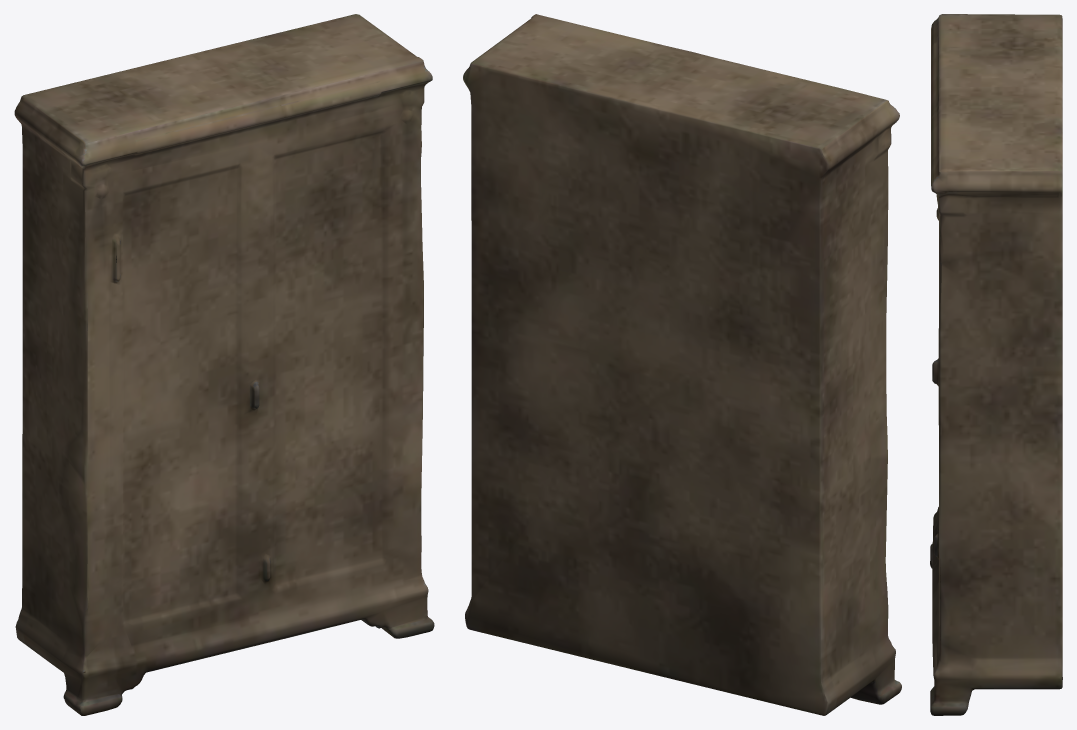
The model's file is old-wood-bookcase-v001.glb.
The picture shows the model from 3 angles, left to right: view 1: azimuth 30°, elevation 25°; view 2: azimuth 150°, elevation 25°; view 3: azimuth 270°, elevation 25°; orthographic projection. The views are drawn at different scales.
Visible parts, largest first — view 1: old-wood-bookcase; view 2: old-wood-bookcase; view 3: old-wood-bookcase.
Boxes of the visible parts, x1,y1,x2,y2 form: old-wood-bookcase: (14, 14, 434, 715); old-wood-bookcase: (463, 14, 901, 715); old-wood-bookcase: (930, 14, 1062, 715).
Bounding box in the file's own units: 1.47 × 2.26 × 0.4996.
1 material, 1 textured.
